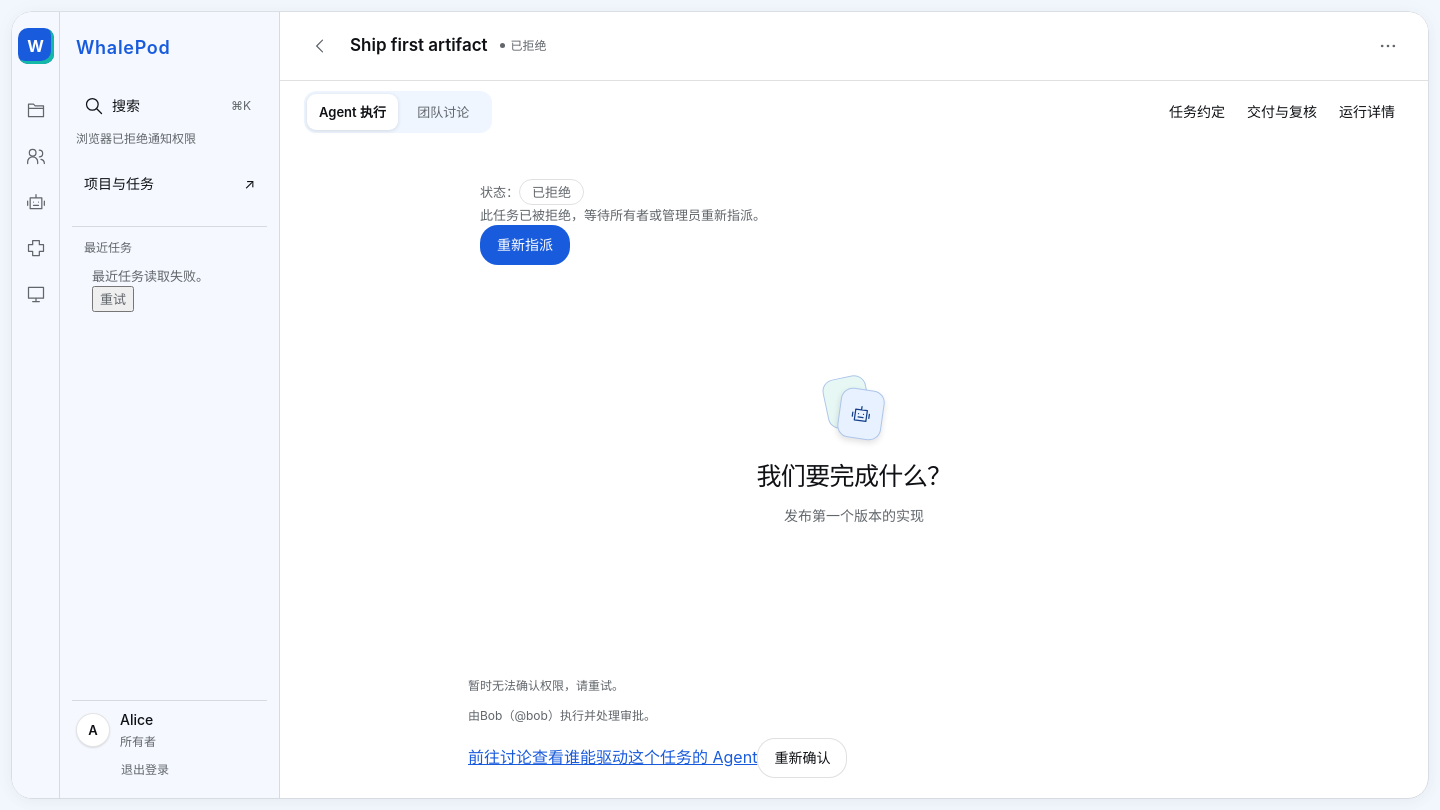
Scenario: #314 拒绝后的重新指派 › Owner 在任务房改派后等待新责任人接受，不自动接受
Click the button "重新指派" at coordinates (525, 245), box [480, 225, 570, 265]
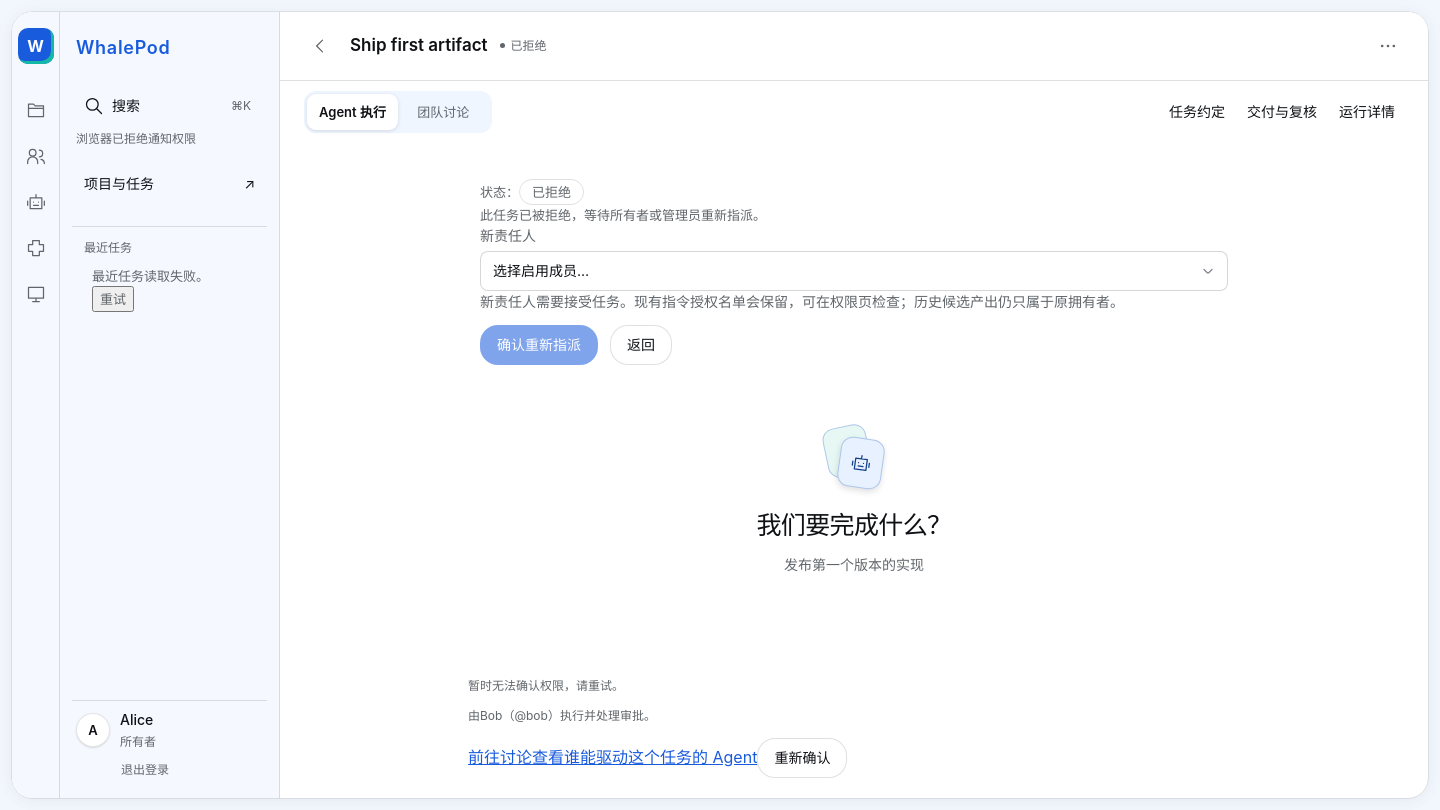
Click the button named "新责任人" at coordinates (541, 271), box [480, 251, 1228, 291]
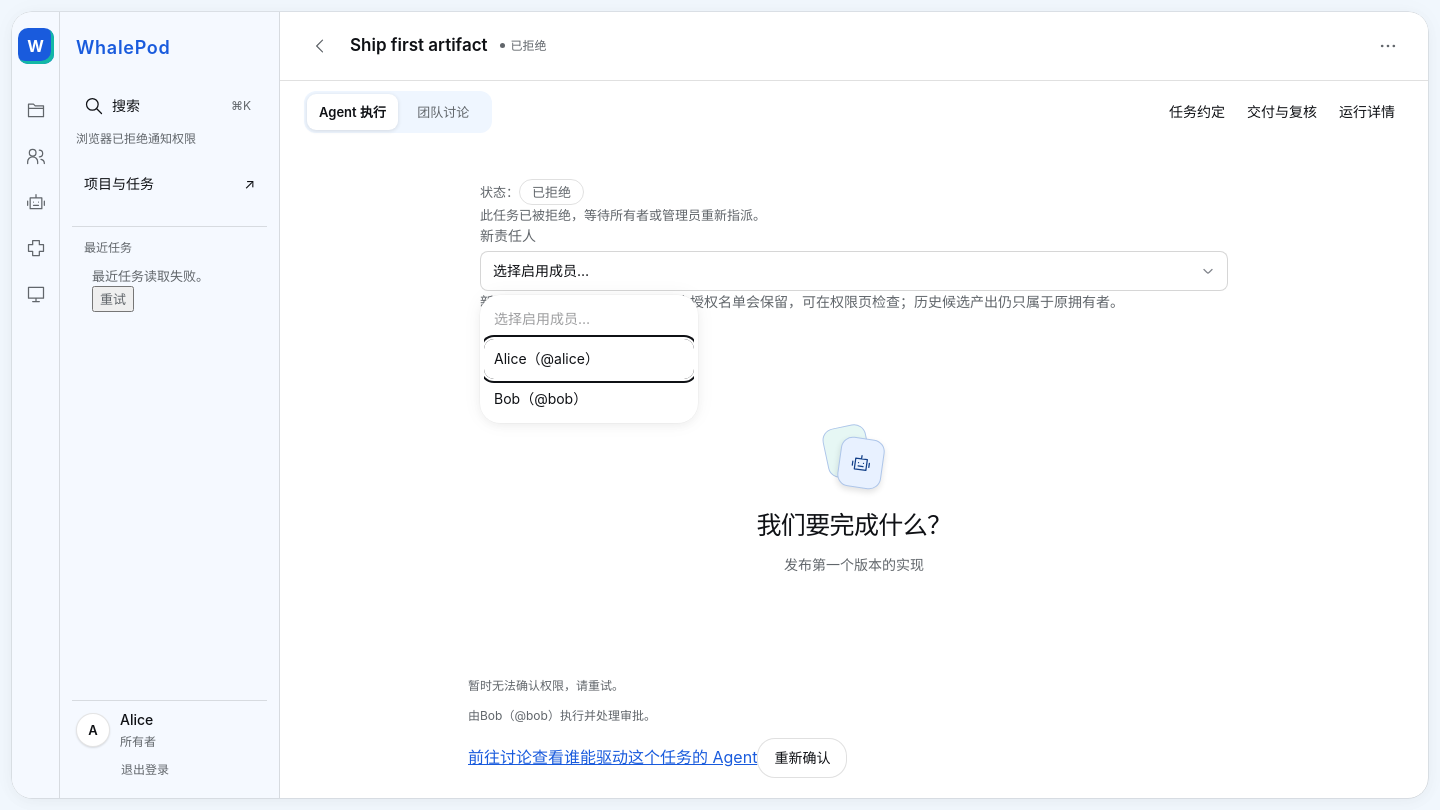
Click the menu item "Alice（@alice）" at coordinates (589, 359), box [484, 339, 694, 379]
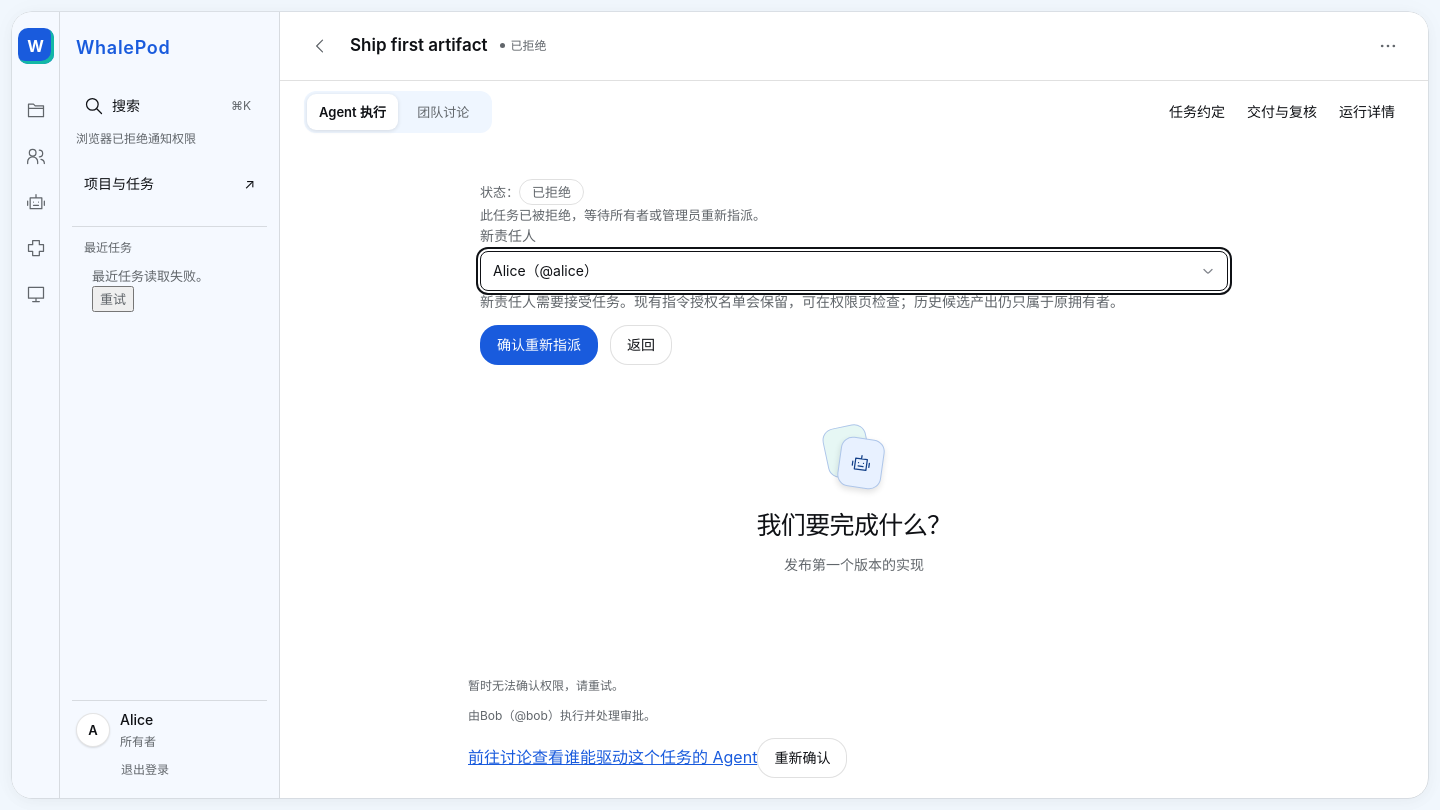
Result: the text "新责任人需要接受任务。现有指令授权名单会保留，可在权限页检查；历史候选产出仍只属于原拥有者。" is shown at [480, 291, 1228, 313]
Click the button "确认重新指派" at coordinates (539, 345), box [480, 325, 598, 365]
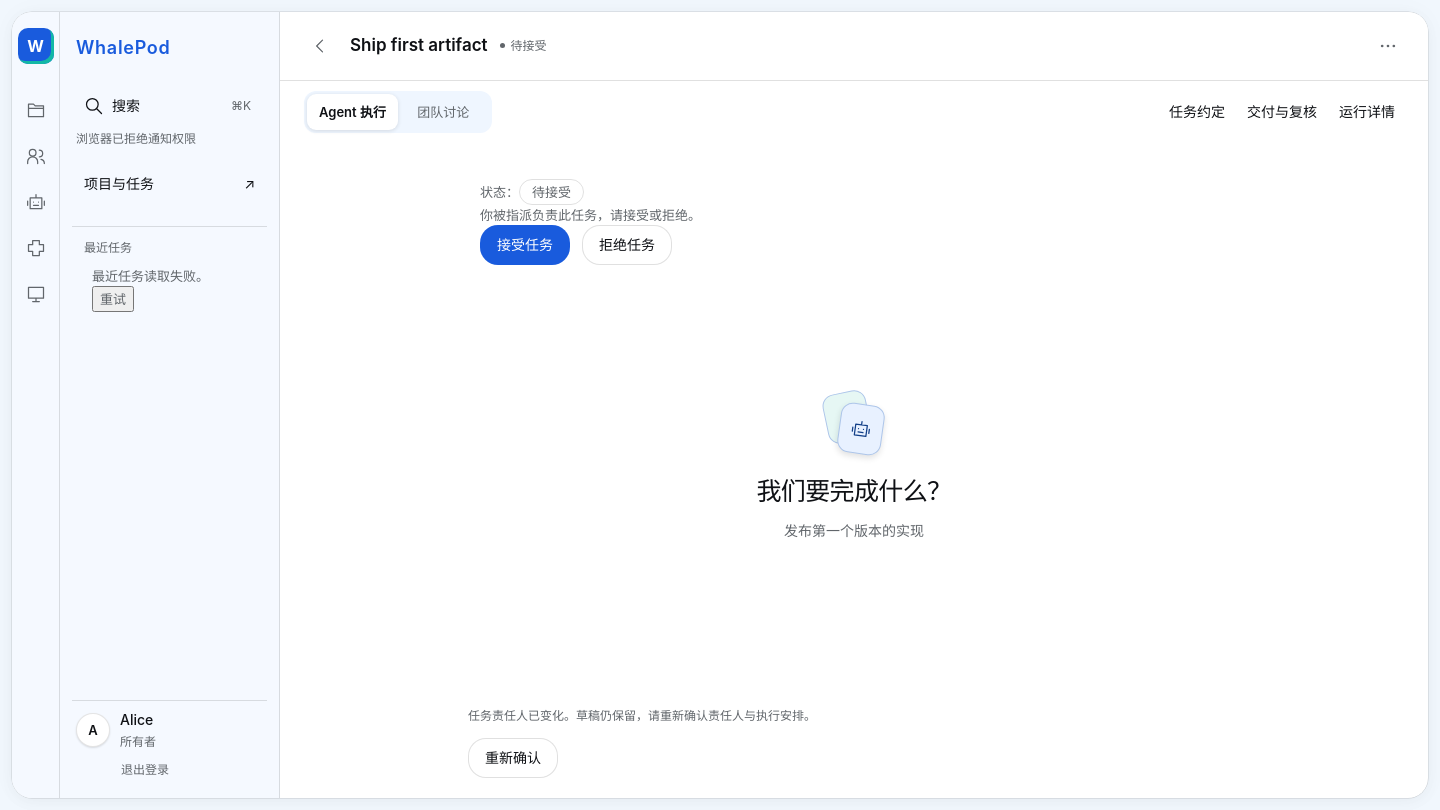
Result: the button "接受任务" is shown at [480, 225, 570, 265]
